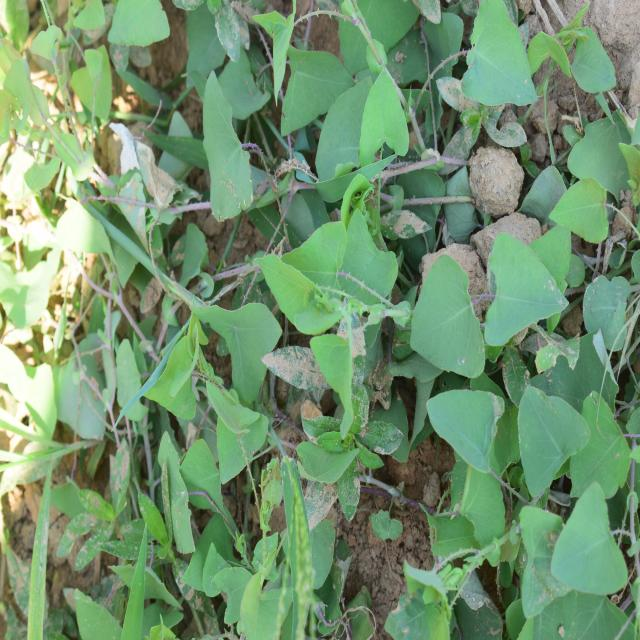Asiatic_Smartweed: (424, 368, 629, 606), (252, 184, 424, 419), (282, 0, 533, 158), (410, 238, 611, 386)
